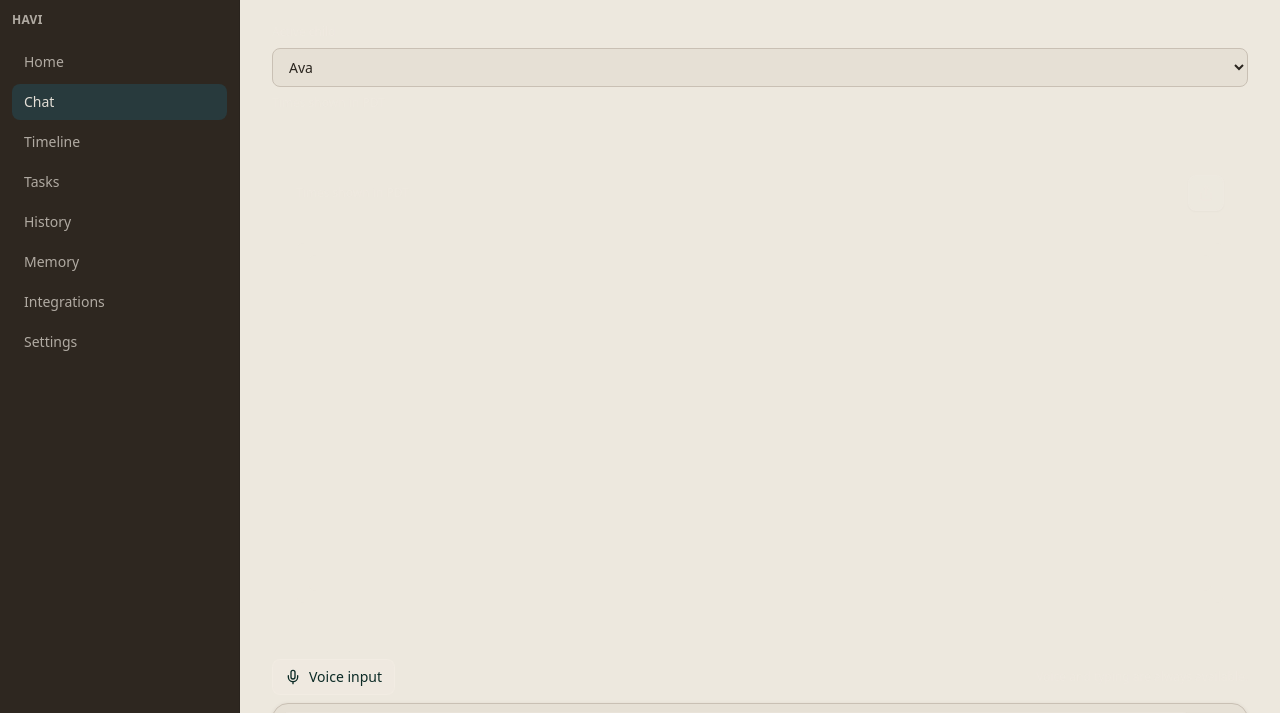
Scenario: Settings save affordance › disables save action when there are no unsaved changes
This screenshot has width=1280, height=713.
Click the button "Settings" at coordinates (120, 342), box [12, 324, 227, 360]
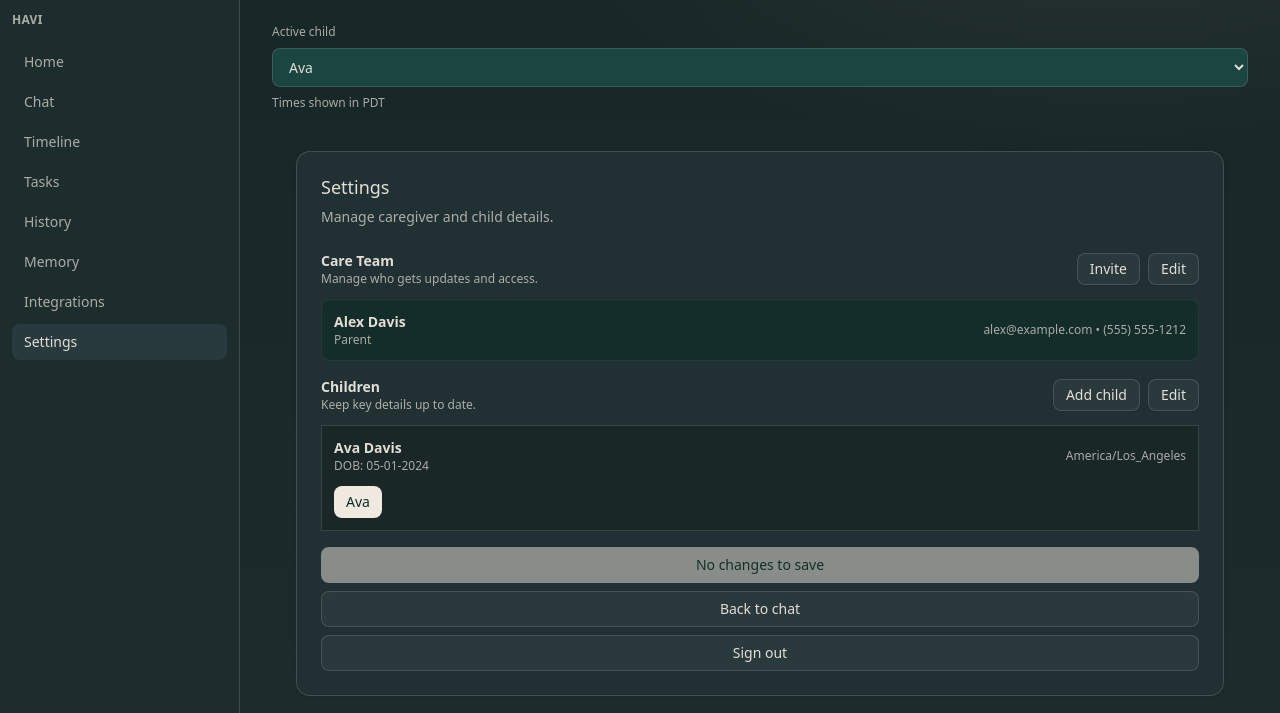
Check: the button with test id "settings-save" is disabled, box [321, 546, 1199, 582]
Check: the button with test id "settings-save" reads "No changes to save", box [321, 546, 1199, 582]
